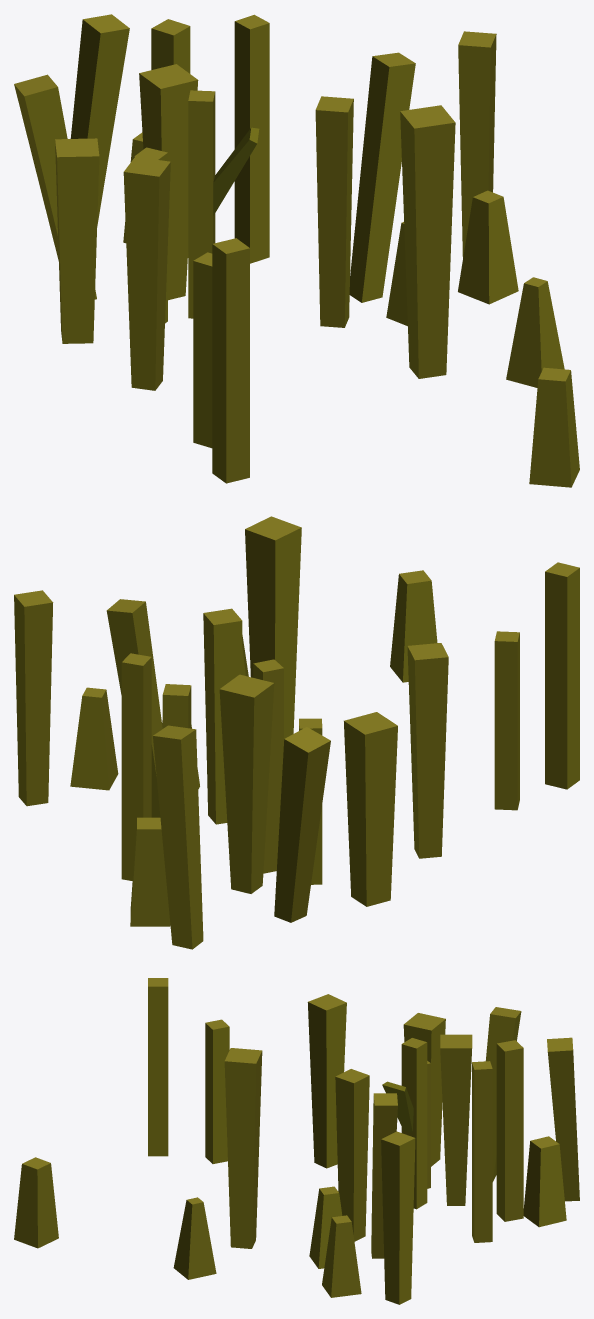
Rendered from SF_Env_Swamp_Preset_014.FBX.
3 views of the same model, one above another, from view 1: azimuth 30°, elevation 25°; view 2: azimuth 150°, elevation 25°; view 3: azimuth 270°, elevation 25° (orthographic). The views are drawn at different scales.
Parts seen in each view (by area): view 1: SF_Env_Swamp_Preset_014_Elements4, SF_Env_Swamp_Preset_014_Elements11, SF_Env_Swamp_Preset_014_Elements8, SF_Env_Swamp_Preset_014_Elements5, SF_Env_Swamp_Preset_014_Elements14, SF_Env_Swamp_Preset_014_Elements17, SF_Env_Swamp_Preset_014_Elements16, SF_Env_Swamp_Preset_014_Elements15, SF_Env_Swamp_Preset_014_Elements21, SF_Env_Swamp_Preset_014_Elements13, SF_Env_Swamp_Preset_014_Elements1, SF_Env_Swamp_Preset_014_Elements20 (+7 smaller); view 2: SF_Env_Swamp_Preset_014_Elements15, SF_Env_Swamp_Preset_014_Elements14, SF_Env_Swamp_Preset_014_Elements13, SF_Env_Swamp_Preset_014_Elements4, SF_Env_Swamp_Preset_014_Elements5, SF_Env_Swamp_Preset_014_Elements10, SF_Env_Swamp_Preset_014_Elements8, SF_Env_Swamp_Preset_014_Elements21, SF_Env_Swamp_Preset_014_Elements16, SF_Env_Swamp_Preset_014_Elements17, SF_Env_Swamp_Preset_014_Elements3, SF_Env_Swamp_Preset_014_Elements20 (+6 smaller); view 3: SF_Env_Swamp_Preset_014_Elements4, SF_Env_Swamp_Preset_014_Elements21, SF_Env_Swamp_Preset_014_Elements8, SF_Env_Swamp_Preset_014_Elements12, SF_Env_Swamp_Preset_014_Elements17, SF_Env_Swamp_Preset_014_Elements15, SF_Env_Swamp_Preset_014_Elements16, SF_Env_Swamp_Preset_014_Elements5, SF_Env_Swamp_Preset_014_Elements13, SF_Env_Swamp_Preset_014_Elements1, SF_Env_Swamp_Preset_014_Elements3, SF_Env_Swamp_Preset_014_Elements6 (+9 smaller).
Part boxes in pixels (bbox=[...]): SF_Env_Swamp_Preset_014_Elements4: bbox=[400, 105, 455, 378]; SF_Env_Swamp_Preset_014_Elements11: bbox=[349, 52, 415, 302]; SF_Env_Swamp_Preset_014_Elements8: bbox=[123, 157, 170, 390]; SF_Env_Swamp_Preset_014_Elements5: bbox=[212, 238, 249, 483]; SF_Env_Swamp_Preset_014_Elements14: bbox=[55, 138, 99, 343]; SF_Env_Swamp_Preset_014_Elements17: bbox=[315, 96, 353, 327]; SF_Env_Swamp_Preset_014_Elements16: bbox=[234, 14, 269, 263]; SF_Env_Swamp_Preset_014_Elements15: bbox=[139, 64, 198, 300]; SF_Env_Swamp_Preset_014_Elements21: bbox=[458, 31, 496, 257]; SF_Env_Swamp_Preset_014_Elements13: bbox=[70, 14, 129, 227]; SF_Env_Swamp_Preset_014_Elements1: bbox=[529, 367, 579, 487]; SF_Env_Swamp_Preset_014_Elements20: bbox=[458, 190, 518, 304]; SF_Env_Swamp_Preset_014_Elements15: bbox=[219, 674, 274, 893]; SF_Env_Swamp_Preset_014_Elements14: bbox=[344, 712, 397, 906]; SF_Env_Swamp_Preset_014_Elements13: bbox=[153, 725, 203, 949]; SF_Env_Swamp_Preset_014_Elements4: bbox=[245, 516, 301, 740]; SF_Env_Swamp_Preset_014_Elements5: bbox=[545, 562, 579, 789]; SF_Env_Swamp_Preset_014_Elements10: bbox=[274, 727, 330, 922]; SF_Env_Swamp_Preset_014_Elements8: bbox=[407, 643, 448, 858]; SF_Env_Swamp_Preset_014_Elements21: bbox=[14, 590, 53, 806]; SF_Env_Swamp_Preset_014_Elements16: bbox=[121, 653, 151, 880]; SF_Env_Swamp_Preset_014_Elements17: bbox=[203, 608, 242, 824]; SF_Env_Swamp_Preset_014_Elements3: bbox=[494, 631, 519, 810]; SF_Env_Swamp_Preset_014_Elements20: bbox=[70, 687, 118, 790]; SF_Env_Swamp_Preset_014_Elements4: bbox=[224, 1048, 262, 1248]; SF_Env_Swamp_Preset_014_Elements21: bbox=[381, 1131, 415, 1304]; SF_Env_Swamp_Preset_014_Elements8: bbox=[307, 994, 346, 1168]; SF_Env_Swamp_Preset_014_Elements12: bbox=[496, 1040, 523, 1221]; SF_Env_Swamp_Preset_014_Elements17: bbox=[335, 1069, 369, 1241]; SF_Env_Swamp_Preset_014_Elements15: bbox=[440, 1034, 472, 1205]; SF_Env_Swamp_Preset_014_Elements16: bbox=[472, 1061, 492, 1242]; SF_Env_Swamp_Preset_014_Elements5: bbox=[148, 978, 168, 1156]; SF_Env_Swamp_Preset_014_Elements13: bbox=[547, 1037, 579, 1201]; SF_Env_Swamp_Preset_014_Elements1: bbox=[14, 1157, 58, 1248]; SF_Env_Swamp_Preset_014_Elements3: bbox=[205, 1019, 229, 1163]; SF_Env_Swamp_Preset_014_Elements6: bbox=[523, 1136, 566, 1227].
Bounding box in the file's own units: 4.2 × 2.32 × 6.33.
